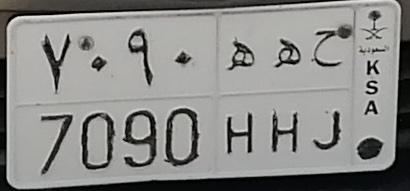0: (163, 50, 200, 169), (79, 56, 116, 174)
7: (38, 33, 75, 178)
9: (123, 27, 156, 168)
H: (269, 36, 303, 153), (224, 37, 257, 157)
J: (312, 27, 342, 151)
